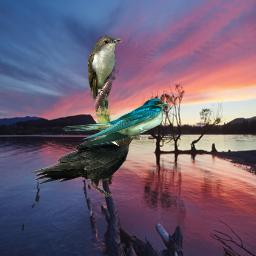Crow: (30, 128, 143, 198)
Cuckoo: (88, 33, 122, 135)
Swallow: (62, 98, 169, 146)
